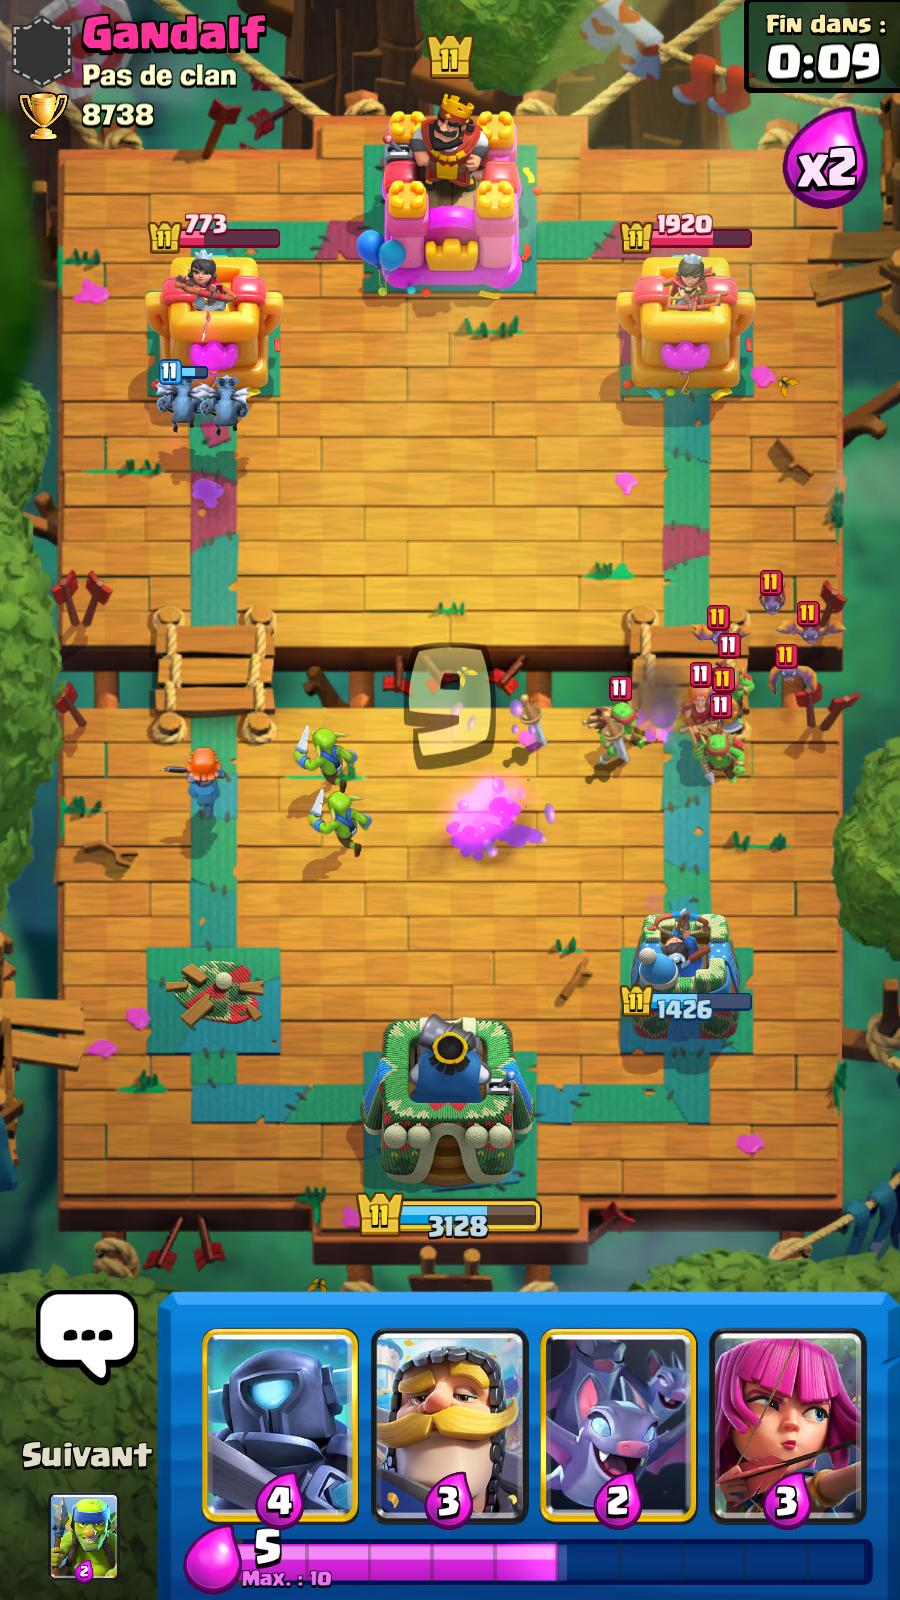bat: (776, 602, 846, 649), (691, 600, 756, 647), (768, 640, 819, 699), (753, 568, 792, 616)
gargouille: (192, 366, 253, 443), (152, 362, 213, 434)
gobelin: (305, 781, 377, 862), (296, 721, 364, 799)
gobelin_lances: (689, 693, 752, 786), (599, 680, 647, 765), (710, 632, 754, 714)
valkyrie: (165, 743, 232, 823), (681, 660, 745, 742)
